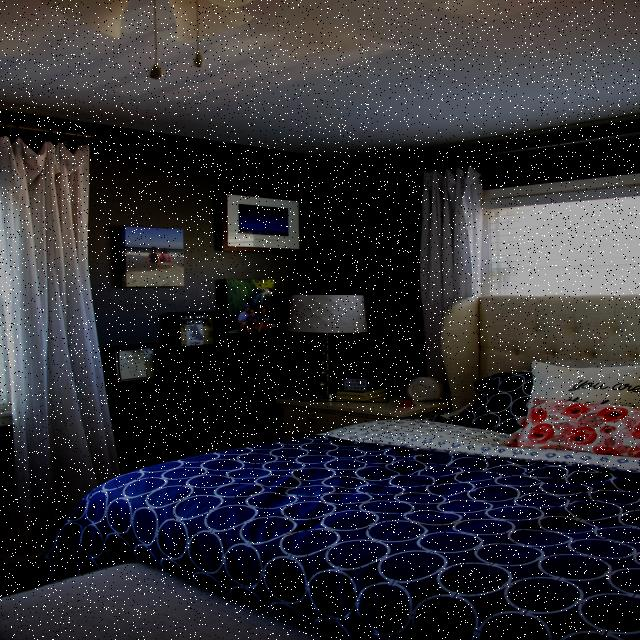bed: (118, 355, 640, 639)
